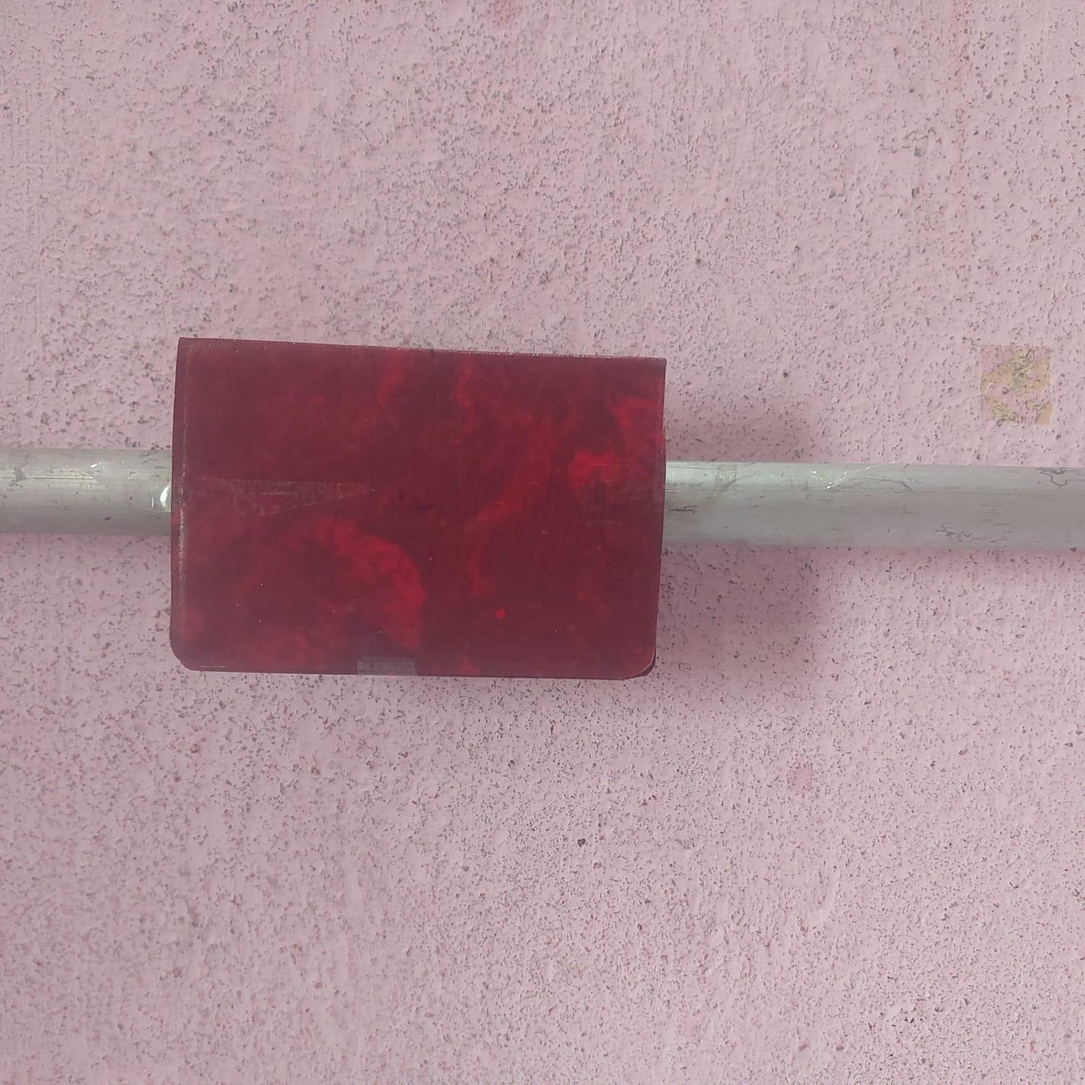wallet: (177, 338, 675, 673)
